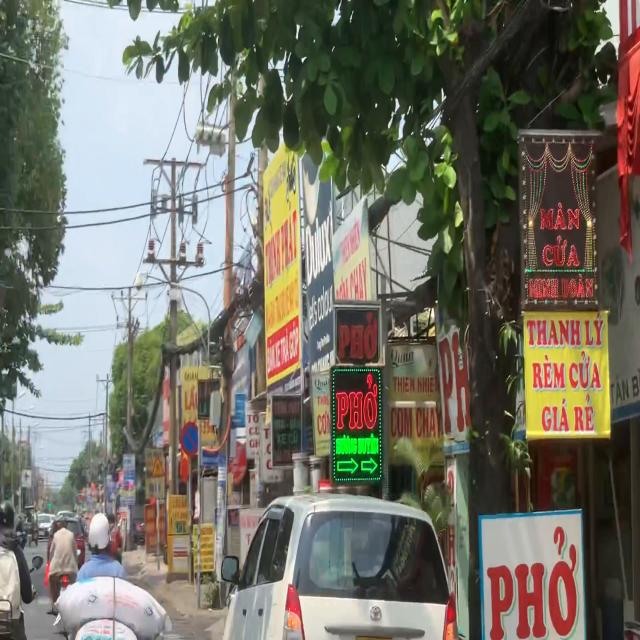Cam do: (181, 422, 200, 457)
